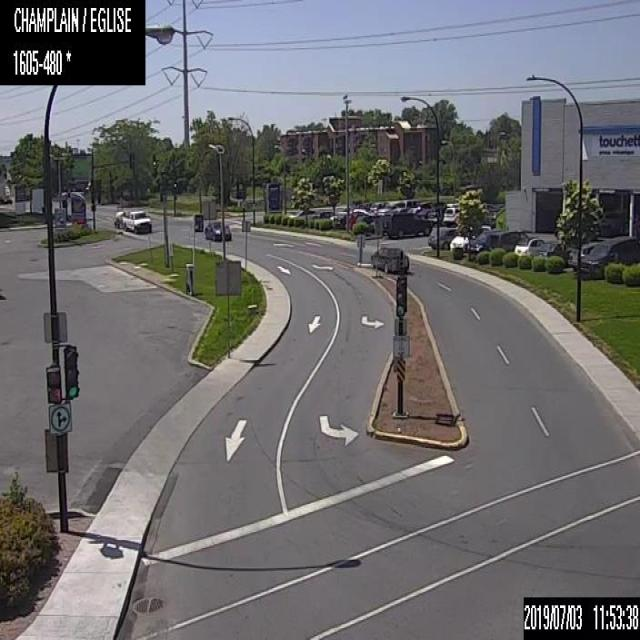vehicle: (580, 234, 639, 278), (382, 212, 432, 236), (486, 229, 536, 252), (450, 224, 490, 251), (370, 244, 410, 271), (112, 208, 152, 235), (568, 240, 599, 268), (537, 240, 571, 265), (466, 230, 501, 252), (428, 226, 460, 250), (354, 214, 382, 236), (204, 219, 231, 241), (514, 236, 544, 254), (410, 200, 435, 218), (345, 212, 366, 231), (333, 212, 354, 229), (443, 207, 460, 226), (290, 208, 318, 219), (485, 208, 499, 227), (328, 210, 352, 221), (377, 204, 398, 214), (312, 210, 335, 218), (428, 206, 442, 218), (370, 201, 384, 211), (350, 198, 362, 208), (393, 206, 406, 214), (358, 201, 371, 208)
